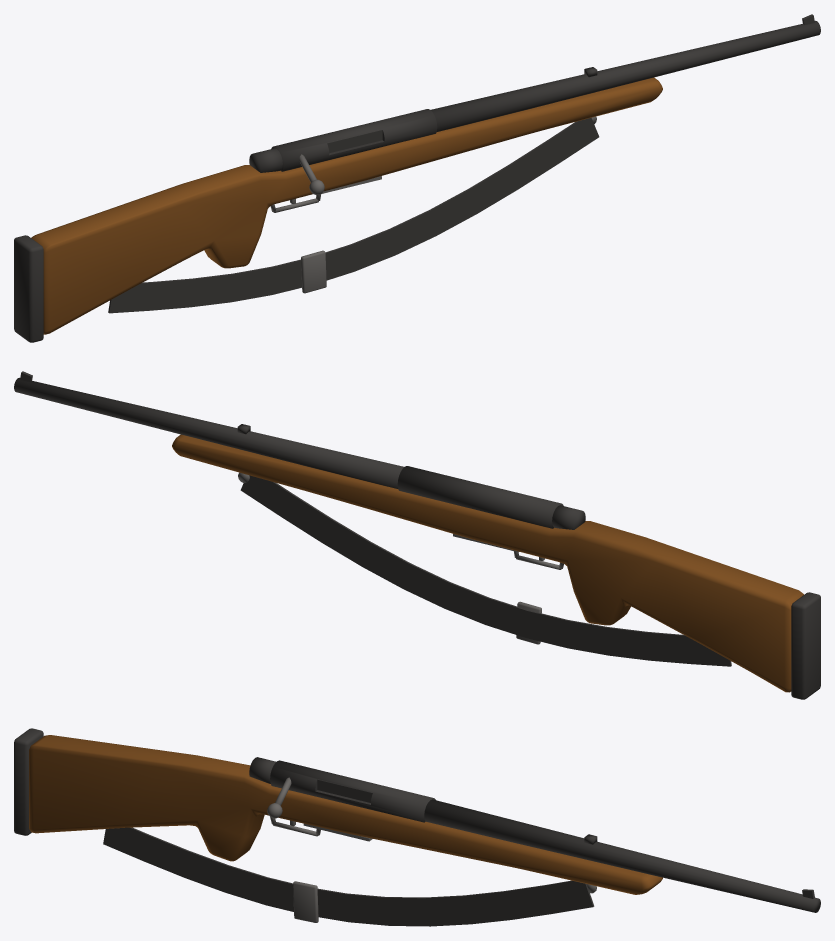
Rendered from gun_rifle_a.glb.
3 renders of one model, top to bottom at view 1: azimuth 30°, elevation 25°; view 2: azimuth 150°, elevation 25°; view 3: azimuth 330°, elevation 25°, orthographic.
Visible parts, largest first — view 1: stock, barrel, receiver, pad, sling_1, sling_0, sling_2, sling_3, sling_4, sling_5, sling_9, sling_10 (+6 smaller); view 2: stock, barrel, receiver, pad, sling_1, sling_3, sling_2, sling_5, sling_10, sling_4, sling_9, sling_6 (+5 smaller); view 3: stock, barrel, receiver, pad, sling_0, sling_1, sling_4, sling_10, sling_2, sling_9, sling_3, sling_8 (+6 smaller).
Part boxes in pixels (x1=…): stock: x1=31, y1=77, x2=662, y2=334; barrel: x1=431, y1=20, x2=820, y2=131; receiver: x1=271, y1=109, x2=437, y2=171; pad: x1=14, y1=235, x2=43, y2=342; sling_1: x1=508, y1=140, x2=558, y2=189; sling_0: x1=548, y1=117, x2=599, y2=163; sling_2: x1=468, y1=165, x2=517, y2=213; sling_3: x1=429, y1=189, x2=477, y2=235; sling_4: x1=389, y1=210, x2=435, y2=254; sling_5: x1=351, y1=229, x2=395, y2=271; sling_9: x1=190, y1=273, x2=233, y2=307; sling_10: x1=149, y1=278, x2=193, y2=310; stock: x1=172, y1=434, x2=803, y2=692; barrel: x1=14, y1=377, x2=403, y2=488; receiver: x1=397, y1=466, x2=563, y2=528; pad: x1=791, y1=592, x2=820, y2=699; sling_1: x1=281, y1=493, x2=331, y2=542; sling_3: x1=363, y1=542, x2=410, y2=589; sling_2: x1=322, y1=518, x2=370, y2=566; sling_5: x1=444, y1=582, x2=489, y2=624; sling_10: x1=645, y1=631, x2=689, y2=663; sling_4: x1=404, y1=563, x2=449, y2=608; sling_9: x1=605, y1=627, x2=648, y2=660; sling_6: x1=486, y1=597, x2=528, y2=638; stock: x1=29, y1=735, x2=662, y2=894; barrel: x1=424, y1=799, x2=820, y2=912; receiver: x1=270, y1=760, x2=435, y2=822; pad: x1=14, y1=728, x2=43, y2=835; sling_0: x1=542, y1=880, x2=594, y2=913; sling_1: x1=502, y1=885, x2=552, y2=919; sling_4: x1=383, y1=897, x2=430, y2=926; sling_10: x1=143, y1=834, x2=188, y2=877; sling_2: x1=462, y1=891, x2=511, y2=924; sling_9: x1=184, y1=851, x2=228, y2=892; sling_3: x1=423, y1=895, x2=471, y2=926; sling_8: x1=225, y1=865, x2=267, y2=905.
Bounding box in the file's own units: 1.09 × 0.1967 × 0.0802.
